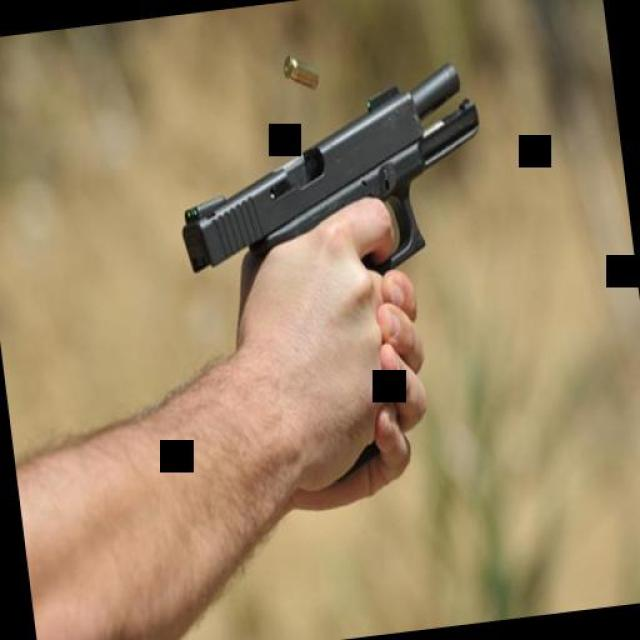gun: (164, 55, 526, 501)
